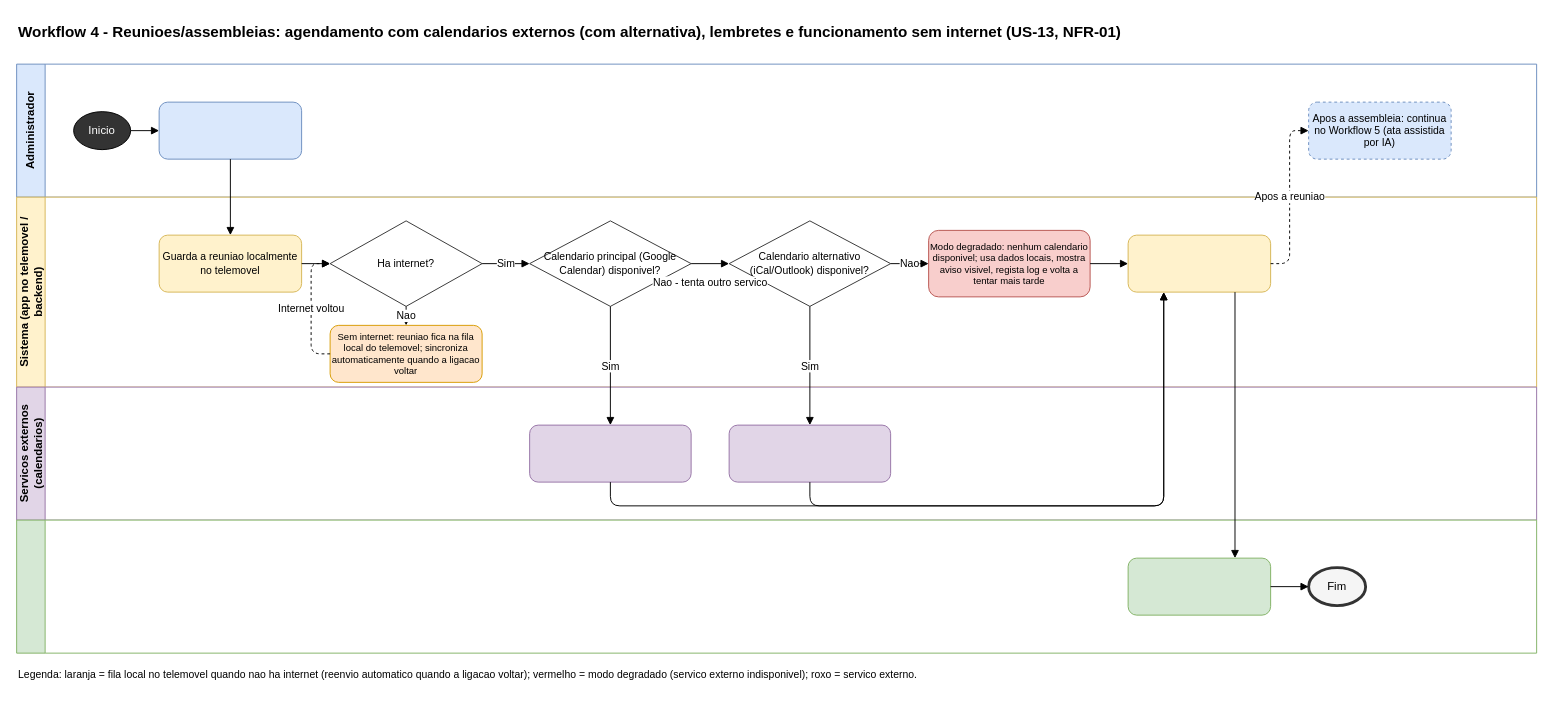
This 1553x716 diagram has some shape labels left out. The shapes that lost their labels are listed below. From the top down, each one's box as (x1, y1, x2, y2) in pixels, then its label:
(158, 101, 302, 159): Agenda a assembleia (data, hora e local)
(1127, 234, 1271, 292): Agenda lembrete antes da reuniao (ex.: 24h)
(529, 424, 691, 482): Sincroniza o evento com o Google Calendar
(728, 424, 891, 482): Sincroniza o evento com o calendario alternativo (iCal/Outlook ou simulador)
(16, 519, 1537, 653): Residente
(1127, 557, 1271, 615): Ve a reuniao no calendario e recebe o lembrete
